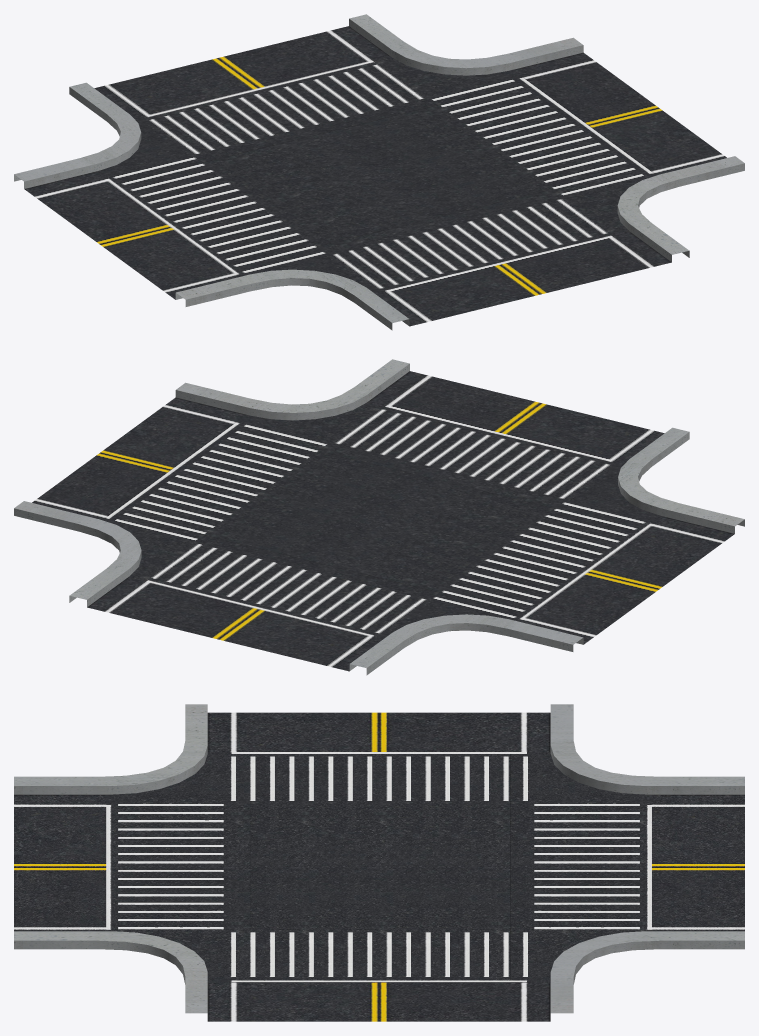
The picture shows the model from 3 angles, top to bottom: view 1: azimuth 30°, elevation 25°; view 2: azimuth 150°, elevation 25°; view 3: azimuth 270°, elevation 25°; orthographic projection. The views are drawn at different scales.
Visible parts, largest first — view 1: JT_LM_SZLK; view 2: JT_LM_SZLK; view 3: JT_LM_SZLK.
Part boxes in pixels (<box>): JT_LM_SZLK: <box>14,14,744,330</box>; JT_LM_SZLK: <box>14,359,744,675</box>; JT_LM_SZLK: <box>14,704,744,1021</box>.
Bounding box in the file's own units: 13.29 × 0.1696 × 13.29.
2 materials, 2 textured.
